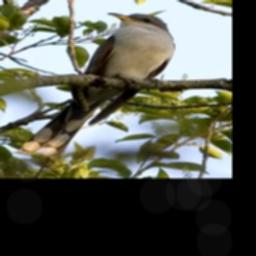Cuckoo: (21, 12, 176, 156)
